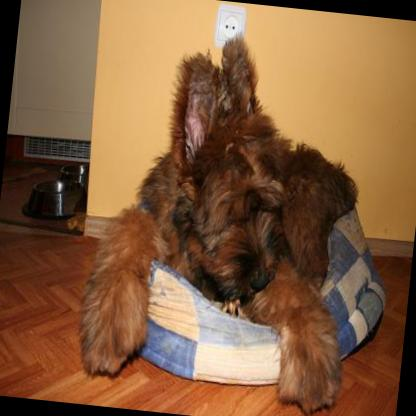briard: (69, 15, 377, 416)
